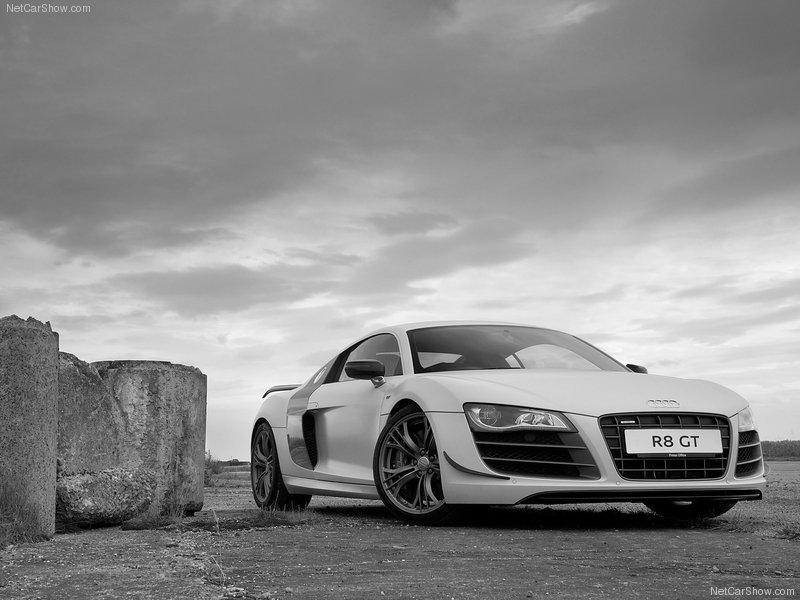car: (247, 316, 772, 535)
